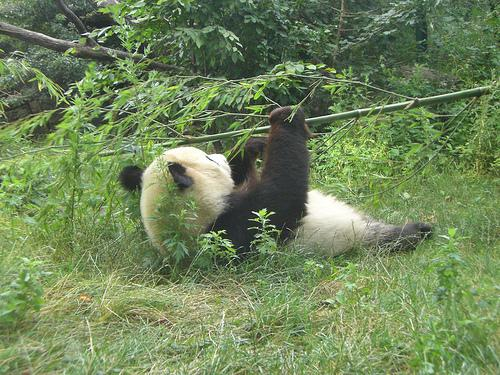panda: (120, 106, 431, 254)
